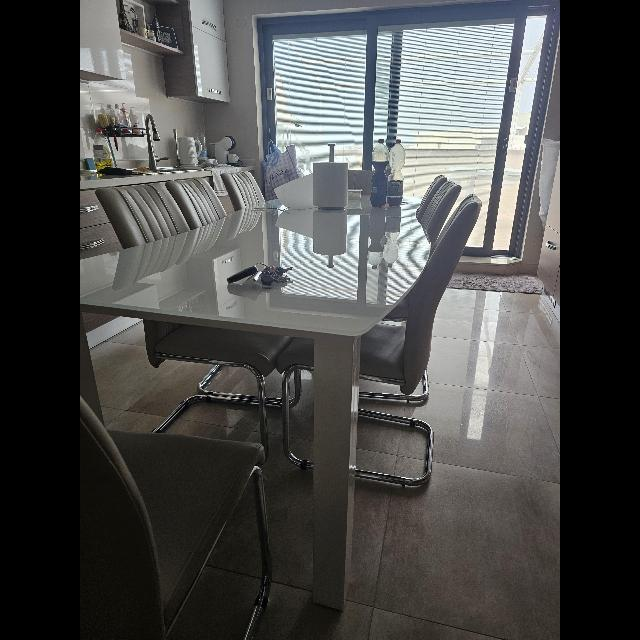Keys: (229, 262, 291, 286)
